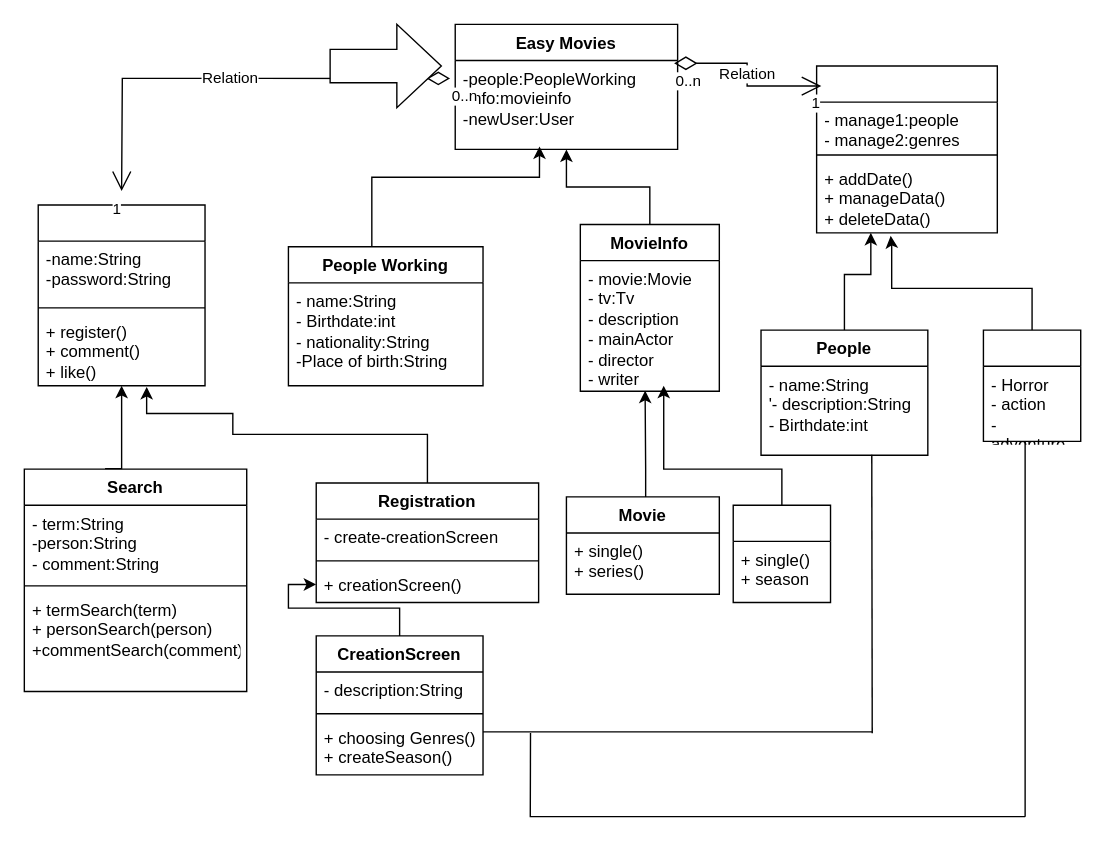
This 1105x842 diagram has some shape labels left out. Each missing label, with the box of its shape:
Administrator: (815, 65, 997, 233)
Genre: (982, 329, 1081, 441)
Normal User: (37, 204, 205, 386)
TV: (732, 504, 831, 603)
